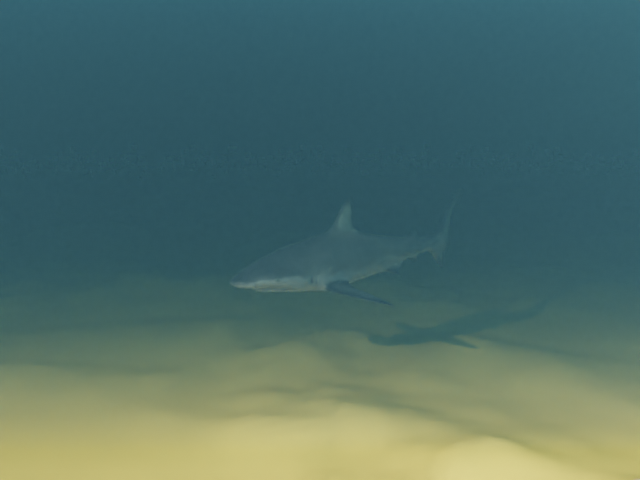Carribean Shark.001: (229, 189, 462, 305)
